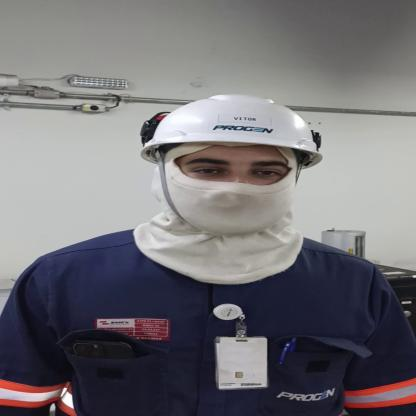Balaclava: (138, 149, 310, 285)
Capacete: (124, 92, 331, 166)
